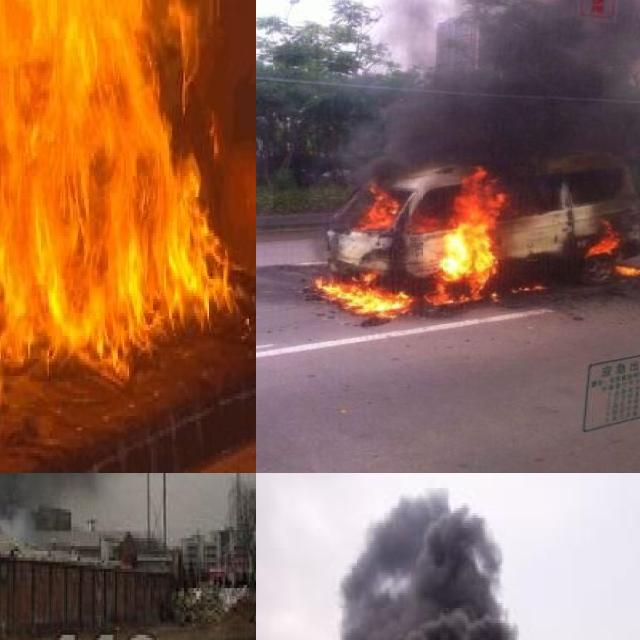fire: (0, 0, 240, 426), (309, 166, 512, 318), (579, 223, 640, 280)
smoke: (369, 0, 640, 166), (336, 486, 533, 640), (0, 473, 188, 538)
